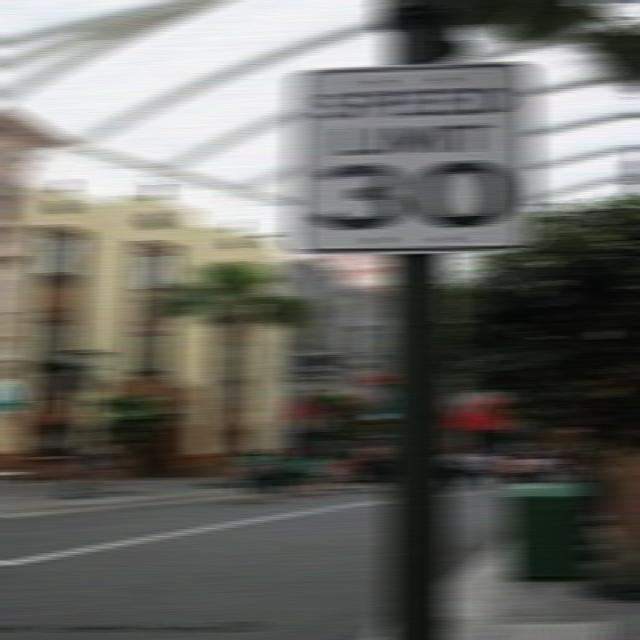speedLimit35: (286, 64, 538, 251)
